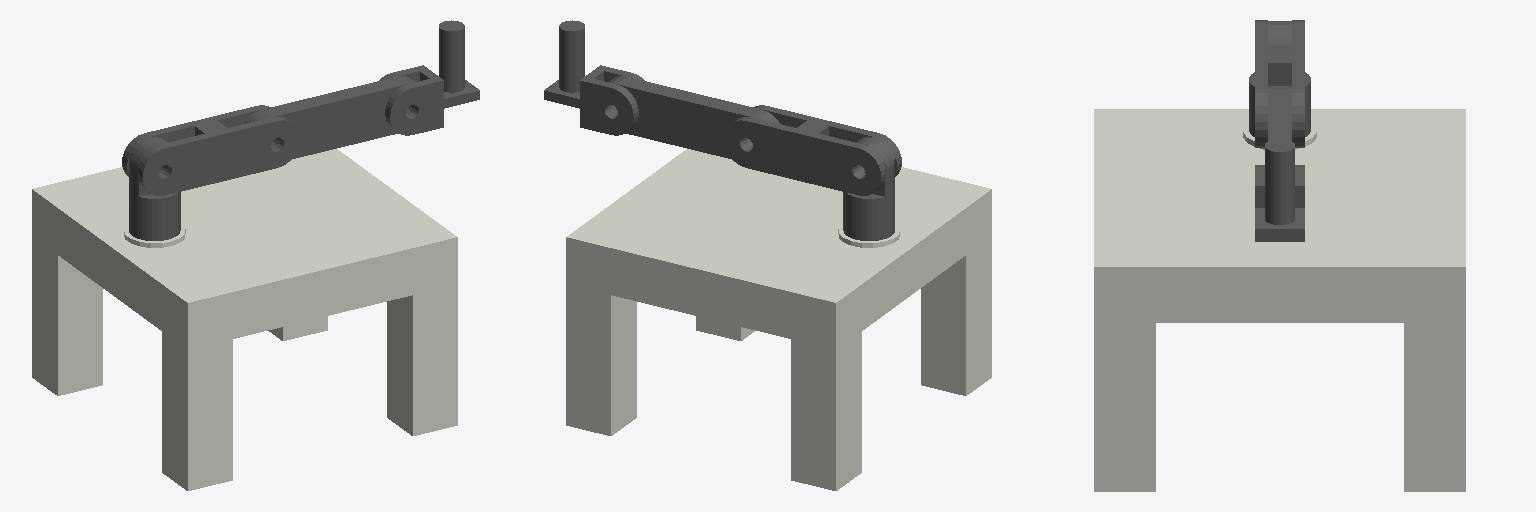
robot.urdf — scene2_solidworks_stamp_arm:
<?xml version="1.0" encoding="utf-8"?>
<!-- This URDF was automatically created by SolidWorks to URDF Exporter! Originally created by Stephen Brawner (brawner@gmail.com) 
     Commit Version: 1.6.0-4-g7f85cfe  Build Version: 1.6.7995.38578
     For more information, please see http://wiki.ros.org/sw_urdf_exporter -->
<robot name="scene2_solidworks_stamp_arm">
  <link
    name="base_link">
    <inertial>
      <origin
        xyz="0.199852295450087 -3.99744622060771E-06 -0.0999223393619701"
        rpy="0 0 0" />
      <mass
        value="48.0345575191895" />
      <inertia
        ixx="2.3204337107446"
        ixy="3.23291593172565E-16"
        ixz="0.000725185806663673"
        iyy="2.32181501704303"
        iyz="-5.32102341912409E-17"
        izz="3.68148670673196" />
    </inertial>
    <visual>
      <origin
        xyz="0 0 0"
        rpy="0 0 0" />
      <geometry>
        <mesh
          filename="meshes/base_link.STL" />
      </geometry>
      <material name="base_link_material">
        <color rgba="0.88 0.88 0.84 1.0" />
      </material>
    </visual>
    <collision>
      <origin
        xyz="0 0 0"
        rpy="0 0 0" />
      <geometry>
        <mesh
          filename="meshes/base_link.STL" />
      </geometry>
    </collision>
  </link>
  <link
    name="link_1">
    <inertial>
      <origin
        xyz="-3.8185E-06 -3.9974E-06 0.077705"
        rpy="0 0 0" />
      <mass
        value="1.1076" />
      <inertia
        ixx="0.0035111"
        ixy="-1.4914E-18"
        ixz="7.6611E-18"
        iyy="0.0037165"
        iyz="1.2198E-18"
        izz="0.0012716" />
    </inertial>
    <visual>
      <origin
        xyz="0 0 0"
        rpy="0 0 0" />
      <geometry>
        <mesh
          filename="meshes/link_1.STL" />
      </geometry>
      <material name="link_1_material">
        <color rgba="0.42 0.42 0.42 1.0" />
      </material>
    </visual>
    <collision>
      <origin
        xyz="0 0 0"
        rpy="0 0 0" />
      <geometry>
        <mesh
          filename="meshes/link_1.STL" />
      </geometry>
    </collision>
  </link>
  <joint
    name="joint_1"
    type="revolute">
    <origin
      xyz="0 0 0"
      rpy="0 0 0" />
    <parent
      link="base_link" />
    <child
      link="link_1" />
    <axis
      xyz="0 0 1" />
    <limit
      lower="-1.5708"
      upper="1.5708"
      effort="20"
      velocity="2" />
  </joint>
  <link
    name="link_2">
    <inertial>
      <origin
        xyz="0.124996181522837 2.12044982940765E-06 3.99744621913667E-06"
        rpy="0 0 0" />
      <mass
        value="1.45761059759436" />
      <inertia
        ixx="0.00239360523604234"
        ixy="-2.50322948163895E-18"
        ixz="6.9296489779354E-17"
        iyy="0.012335437490121"
        iyz="-1.0866898279364E-19"
        izz="0.0123281696106538" />
    </inertial>
    <visual>
      <origin
        xyz="0 0 0"
        rpy="0 0 0" />
      <geometry>
        <mesh
          filename="meshes/link_2.STL" />
      </geometry>
      <material name="link_2_material">
        <color rgba="0.42 0.42 0.42 1.0" />
      </material>
    </visual>
    <collision>
      <origin
        xyz="0 0 0"
        rpy="0 0 0" />
      <geometry>
        <mesh
          filename="meshes/link_2.STL" />
      </geometry>
    </collision>
  </link>
  <joint
    name="joint_2"
    type="revolute">
    <origin
      xyz="0 0 0.15"
      rpy="1.5708 0 0" />
    <parent
      link="link_1" />
    <child
      link="link_2" />
    <axis
      xyz="0 0 -1" />
    <limit
      lower="-3.14159265358979"
      upper="3.14159265358979"
      effort="20"
      velocity="2" />
  </joint>
  <link
    name="link_3">
    <inertial>
      <origin
        xyz="0.149996181522838 2.12044982779436E-06 3.99744621647213E-06"
        rpy="0 0 0" />
      <mass
        value="1.45761059759436" />
      <inertia
        ixx="0.00138751675796685"
        ixy="-2.32337297548638E-20"
        ixz="1.23104823001782E-16"
        iyy="0.0171837552038401"
        iyz="3.87305012448716E-18"
        izz="0.0181825758024484" />
    </inertial>
    <visual>
      <origin
        xyz="0 0 0"
        rpy="0 0 0" />
      <geometry>
        <mesh
          filename="meshes/link_3.STL" />
      </geometry>
      <material name="link_3_material">
        <color rgba="0.42 0.42 0.42 1.0" />
      </material>
    </visual>
    <collision>
      <origin
        xyz="0 0 0"
        rpy="0 0 0" />
      <geometry>
        <mesh
          filename="meshes/link_3.STL" />
      </geometry>
    </collision>
  </link>
  <joint
    name="joint_3"
    type="revolute">
    <origin
      xyz="0.25 0 0"
      rpy="0 0 0" />
    <parent
      link="link_2" />
    <child
      link="link_3" />
    <axis
      xyz="0 0 -1" />
    <limit
      lower="-3.14159265358979"
      upper="3.14159265358979"
      effort="20"
      velocity="2" />
  </joint>
  <link
    name="link_4">
    <inertial>
      <origin
        xyz="0.0364042997251589 2.12044980909404E-06 3.99744622464615E-06"
        rpy="0 0 0" />
      <mass
        value="0.577535390627309" />
      <inertia
        ixx="0.000853891031263966"
        ixy="-6.26006961069129E-20"
        ixz="-1.0218682501067E-17"
        iyy="0.00166914556058994"
        iyz="-2.40056821760727E-20"
        izz="0.00161433854706892" />
    </inertial>
    <visual>
      <origin
        xyz="0 0 0"
        rpy="0 0 0" />
      <geometry>
        <mesh
          filename="meshes/link_4.STL" />
      </geometry>
      <material name="link_4_material">
        <color rgba="0.42 0.42 0.42 1.0" />
      </material>
    </visual>
    <collision>
      <origin
        xyz="0 0 0"
        rpy="0 0 0" />
      <geometry>
        <mesh
          filename="meshes/link_4.STL" />
      </geometry>
    </collision>
  </link>
  <joint
    name="joint_4"
    type="revolute">
    <origin
      xyz="0.3 0 0"
      rpy="0 0 0" />
    <parent
      link="link_3" />
    <child
      link="link_4" />
    <axis
      xyz="0 0 -1" />
    <limit
      lower="-3.14159265358979"
      upper="3.14159265358979"
      effort="20"
      velocity="2" />
  </joint>
  <link
    name="link_5">
    <inertial>
      <origin
        xyz="-3.81847716091066E-06 3.9974462134329E-06 -0.0730073017968724"
        rpy="0 0 0" />
      <mass
        value="0.303163691071415" />
      <inertia
        ixx="0.000642744846944096"
        ixy="0"
        ixz="2.97910833180706E-19"
        iyy="0.000642744846944096"
        iyz="1.03868074675112E-33"
        izz="9.86263743686346E-05" />
    </inertial>
    <visual>
      <origin
        xyz="0 0 0"
        rpy="0 0 0" />
      <geometry>
        <mesh
          filename="meshes/link_5.STL" />
      </geometry>
      <material name="link_5_material">
        <color rgba="0.42 0.42 0.42 1.0" />
      </material>
    </visual>
    <collision>
      <origin
        xyz="0 0 0"
        rpy="0 0 0" />
      <geometry>
        <mesh
          filename="meshes/link_5.STL" />
      </geometry>
    </collision>
  </link>
  <joint
    name="joint_5"
    type="prismatic">
    <origin
      xyz="0.11 -0.01 0.0"
      rpy="1.5708 0 0" />
    <parent
      link="link_4" />
    <child
      link="link_5" />
    <axis
      xyz="0 0 1" />
    <limit
      lower="0"
      upper="0.12"
      effort="10"
      velocity="0.2" />
  </joint>
</robot>

--- Facts derived from the render (not from the file) ---
Views: 3 orthographic renders of the robot side by side, from view 1: azimuth 30°, elevation 25°; view 2: azimuth 150°, elevation 25°; view 3: azimuth 270°, elevation 25°.
Model scene2_solidworks_stamp_arm with 6 links and 5 joints (4 revolute, 1 prismatic), rooted at base_link, posed all joints at 0.
Visible links, largest first — view 1: base_link, link_2, link_3, link_4, link_1, link_5; view 2: base_link, link_2, link_3, link_4, link_1, link_5; view 3: base_link, link_2, link_5, link_4, link_1, link_3.
Link boxes in pixels (box(x1,y1,x2,y2)): base_link: box(32, 149, 457, 490); link_2: box(122, 105, 299, 195); link_3: box(244, 76, 415, 159); link_4: box(379, 65, 479, 135); link_1: box(129, 136, 180, 240); link_5: box(439, 20, 464, 92); base_link: box(566, 149, 991, 490); link_2: box(724, 105, 901, 195); link_3: box(608, 76, 779, 159); link_4: box(544, 65, 644, 135); link_1: box(843, 136, 894, 240); link_5: box(559, 20, 584, 92); base_link: box(1094, 109, 1465, 491); link_2: box(1255, 20, 1304, 147); link_5: box(1265, 139, 1294, 224); link_4: box(1255, 165, 1304, 241); link_1: box(1249, 21, 1310, 136); link_3: box(1268, 86, 1291, 140).
Bounding box of the posed robot: 0.8 × 0.6 × 0.69 m (x, y, z).
6 mesh visuals loaded from 6 distinct referenced files (6 binary STL).
